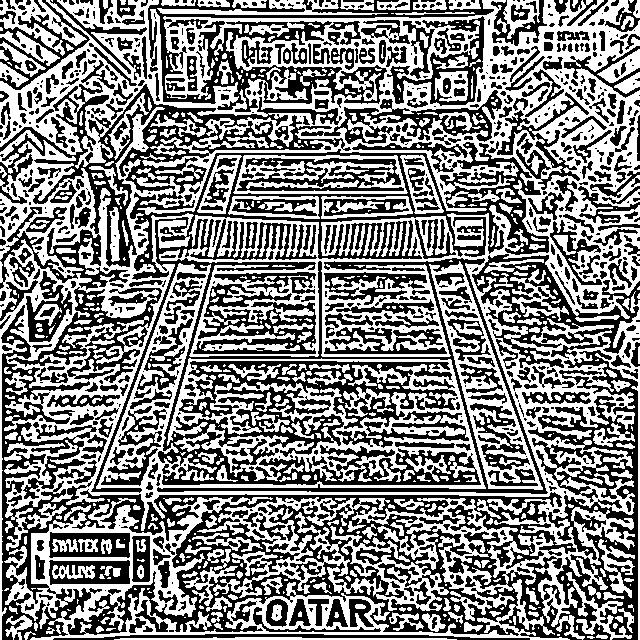left side: (93, 153, 243, 491), (398, 154, 547, 493)
player: (135, 431, 180, 561), (332, 98, 352, 154)
